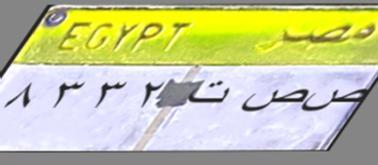2: (133, 76, 166, 108)
3: (48, 75, 88, 118), (97, 74, 126, 114)
8: (4, 78, 38, 119)
saad: (306, 84, 368, 117), (240, 88, 306, 119)
taa: (184, 77, 234, 113)
